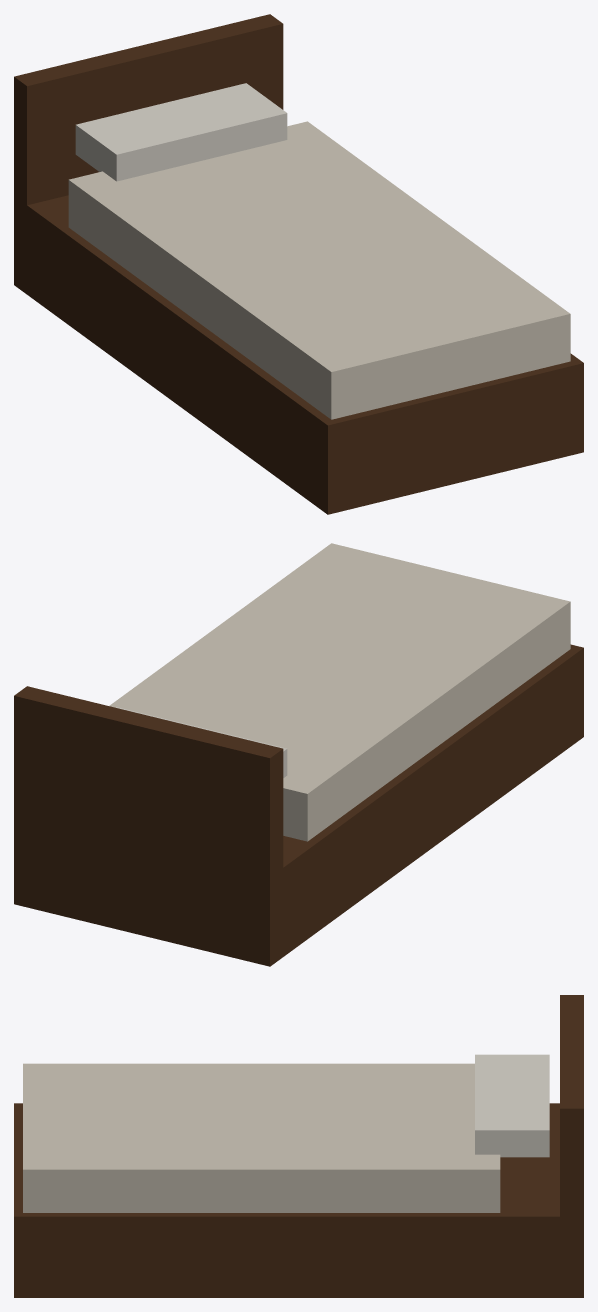
The model's file is bed.13798cf7.glb.
The picture shows the model from 3 angles, top to bottom: view 1: azimuth 30°, elevation 25°; view 2: azimuth 150°, elevation 25°; view 3: azimuth 270°, elevation 25°; orthographic projection. The views are drawn at different scales.
Visible parts, largest first — view 1: body; view 2: body; view 3: body.
Part boxes in pixels (box(x1,y1,x2,y2)): body: box(14, 14, 583, 514); body: box(14, 543, 583, 966); body: box(14, 995, 583, 1297).
Size of the model in its own units: 0.9 by 0.7 by 1.91.
